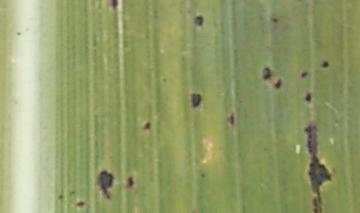tarspot: (304, 122, 332, 213), (97, 169, 113, 199), (190, 91, 202, 109), (193, 14, 205, 27), (262, 66, 272, 80), (126, 174, 135, 189), (226, 111, 235, 125), (303, 90, 312, 103), (142, 121, 152, 130), (269, 14, 279, 23), (321, 58, 329, 69), (274, 78, 282, 89), (299, 69, 308, 78), (111, 1, 118, 12), (67, 188, 76, 196), (160, 75, 168, 84), (75, 201, 85, 207), (15, 29, 22, 37), (198, 172, 207, 178), (57, 193, 64, 200)
